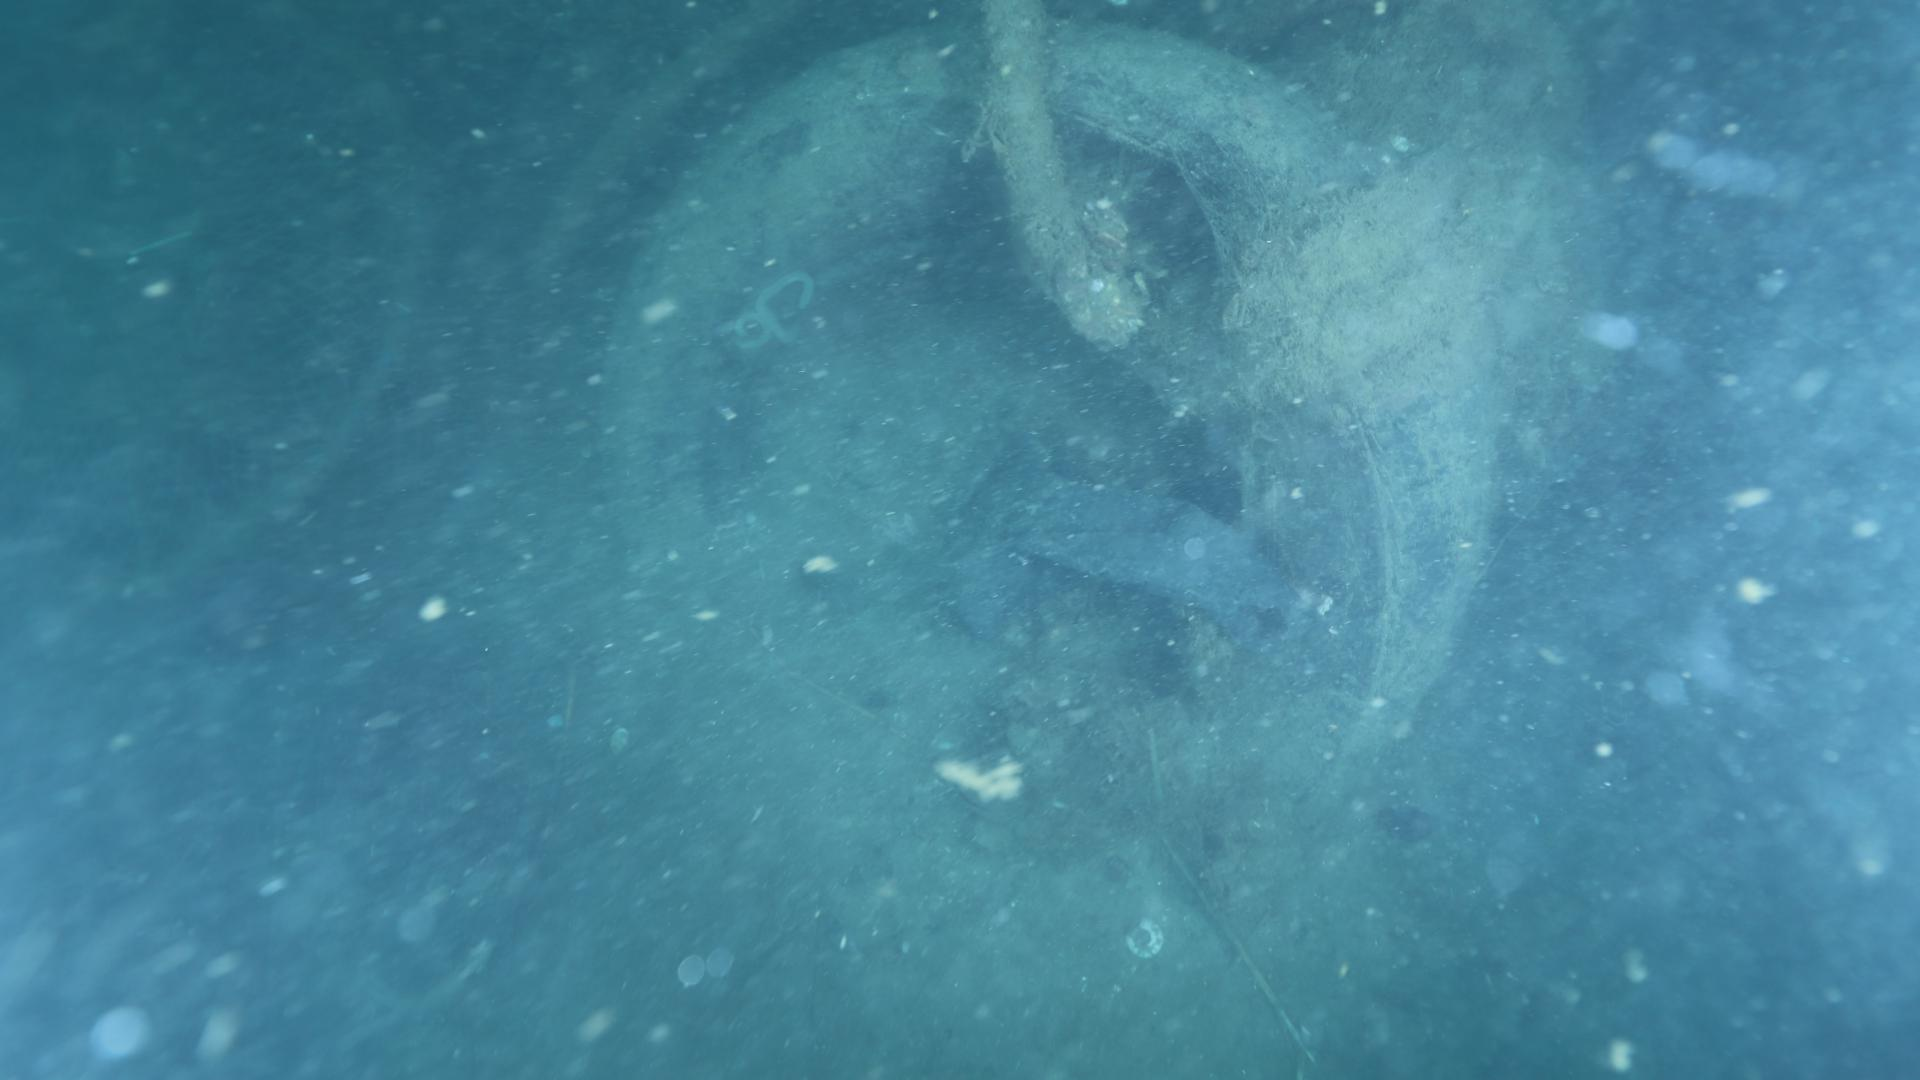tire: (597, 22, 1506, 829)
